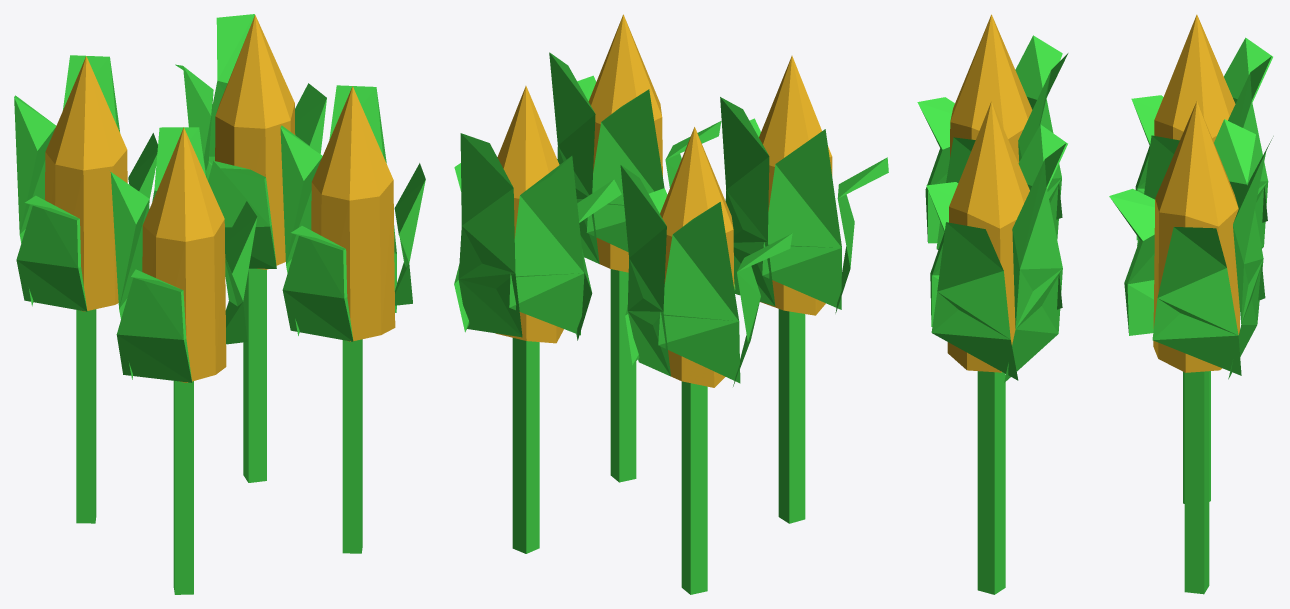
Rendered from corn_1.dae.
3 renders of one model, left to right at view 1: azimuth 30°, elevation 25°; view 2: azimuth 150°, elevation 25°; view 3: azimuth 270°, elevation 25°, orthographic. The views are drawn at different scales.
Visible parts, largest first — view 1: corn.003; view 2: corn.003; view 3: corn.003.
Part boxes in pixels (<box>): corn.003: <box>14,14,425,594</box>; corn.003: <box>454,14,888,594</box>; corn.003: <box>917,14,1273,594</box>.
Size of the model in its own units: 8.45 by 7.98 by 12.
